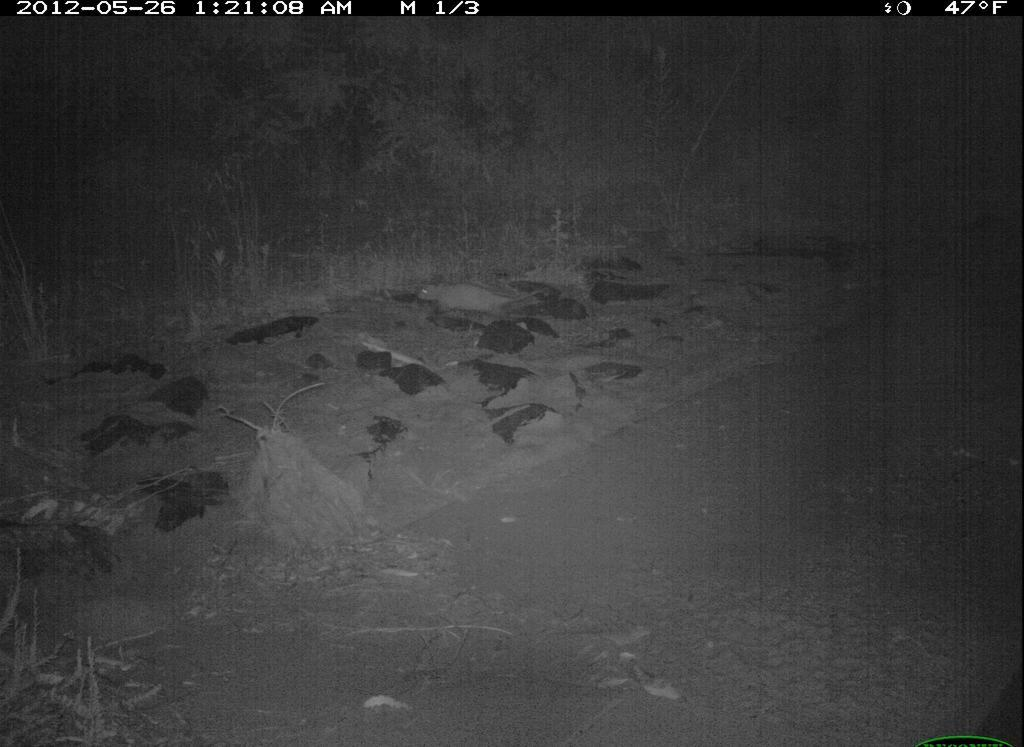opossum: (410, 271, 558, 327)
